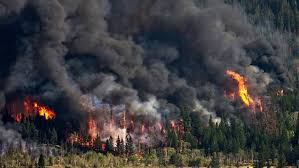fire: (224, 68, 255, 108), (22, 95, 57, 120)
smoke: (1, 1, 213, 98)
